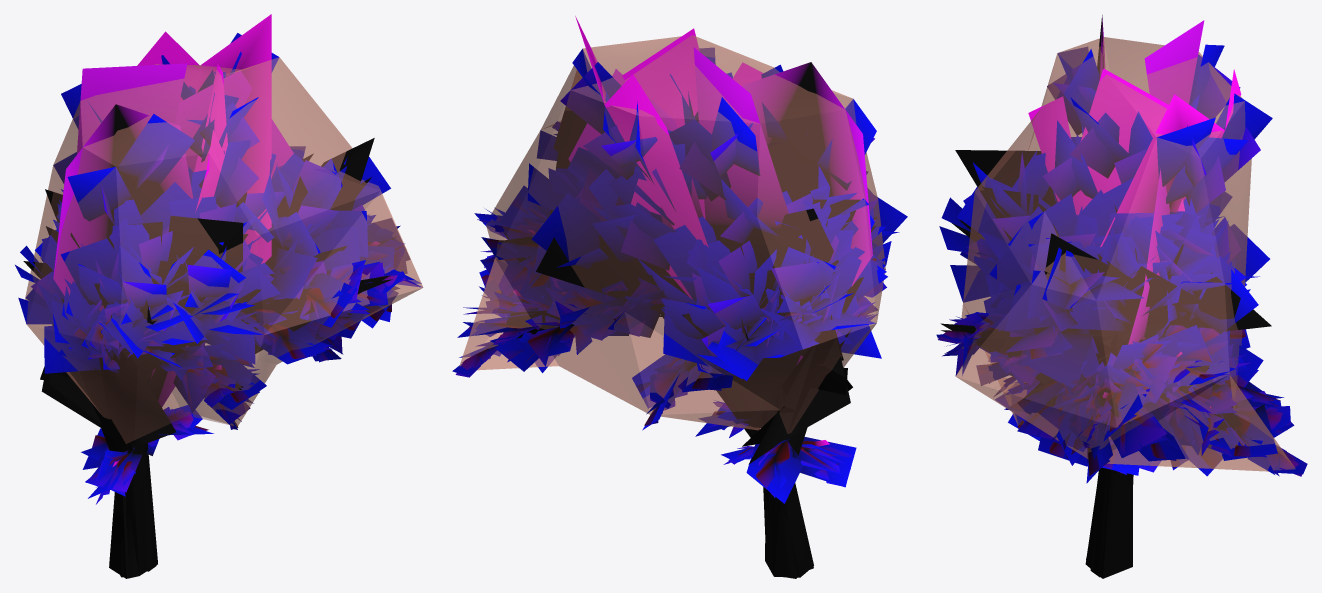
File: tree_beech_overhang_a.dae
3 views of the same model, side by side, from view 1: azimuth 30°, elevation 25°; view 2: azimuth 150°, elevation 25°; view 3: azimuth 270°, elevation 25° (orthographic). The views are drawn at different scales.
Parts seen in each view (by area): view 1: Colmesh_overhang-1, beech_overhang_a600, beech_overhang_a1100, beech_overhang_a300; view 2: Colmesh_overhang-1, beech_overhang_a600, beech_overhang_a1100, beech_overhang_a300; view 3: Colmesh_overhang-1, beech_overhang_a600, beech_overhang_a1100, beech_overhang_a300.
Boxes of the visible parts, x1,y1,x2,y2 form: Colmesh_overhang-1: (25, 57, 423, 578); beech_overhang_a600: (15, 14, 421, 577); beech_overhang_a1100: (40, 178, 422, 504); beech_overhang_a300: (18, 147, 390, 373); Colmesh_overhang-1: (459, 35, 885, 577); beech_overhang_a600: (452, 16, 907, 578); beech_overhang_a1100: (455, 192, 886, 497); beech_overhang_a300: (530, 131, 887, 381); Colmesh_overhang-1: (955, 37, 1295, 578); beech_overhang_a600: (936, 15, 1307, 577); beech_overhang_a1100: (938, 154, 1302, 476); beech_overhang_a300: (957, 135, 1258, 333).
Bounding box in the file's own units: 10.75 × 8.11 × 13.65.
